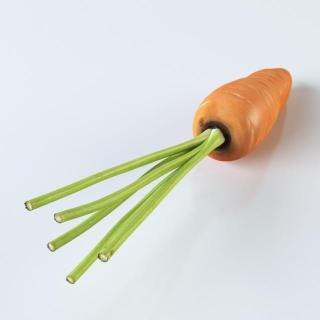carrot: (188, 65, 294, 175)
